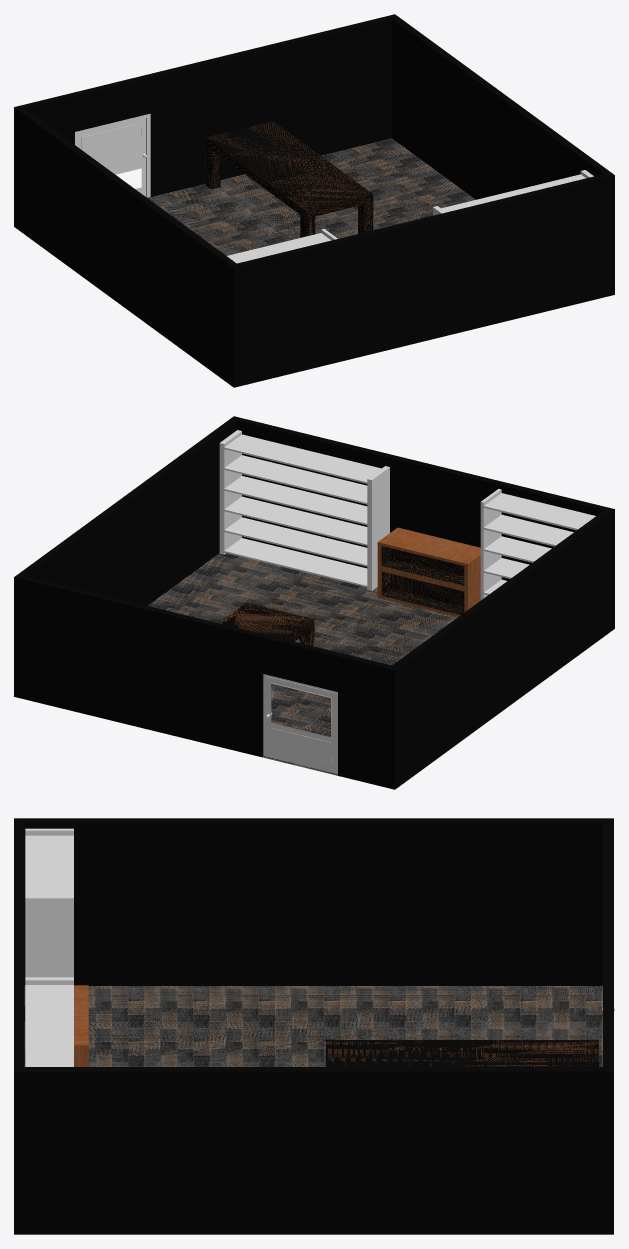
File: acc_office.glb
3 views of the same model, one above another, from view 1: azimuth 30°, elevation 25°; view 2: azimuth 150°, elevation 25°; view 3: azimuth 270°, elevation 25° (orthographic). The views are drawn at different scales.
Visible parts, largest first — view 1: Walls, Ground, Desk, Door, Shelves1.001, Shelves1, DoorFrame; view 2: Walls, Shelves1, Ground, Shelves1.001, Cabinet, Door, Desk, Cabinet.002, Cabinet.001, DoorFrame; view 3: Walls, Ground, Desk, Shelves1.001, Shelves1, Cabinet.
Part boxes in pixels (bbox=[...]): Walls: bbox=[14, 14, 614, 387]; Ground: bbox=[147, 138, 475, 255]; Desk: bbox=[205, 121, 373, 237]; Door: bbox=[78, 118, 145, 196]; Shelves1.001: bbox=[227, 228, 337, 263]; Shelves1: bbox=[433, 170, 593, 215]; DoorFrame: bbox=[75, 113, 150, 197]; Walls: bbox=[14, 416, 614, 789]; Shelves1: bbox=[219, 430, 389, 590]; Ground: bbox=[147, 553, 457, 775]; Shelves1.001: bbox=[480, 489, 595, 600]; Cabinet: bbox=[377, 527, 480, 616]; Door: bbox=[266, 676, 336, 773]; Desk: bbox=[219, 603, 314, 646]; Cabinet.002: bbox=[381, 571, 464, 614]; Cabinet.001: bbox=[381, 546, 464, 585]; DoorFrame: bbox=[263, 674, 337, 774]; Walls: bbox=[14, 818, 613, 1234]; Ground: bbox=[24, 986, 602, 1066]; Desk: bbox=[326, 1040, 598, 1066]; Shelves1.001: bbox=[25, 828, 73, 977]; Shelves1: bbox=[25, 977, 73, 1066]; Cabinet: bbox=[74, 985, 88, 1066].
Size of the model in its own units: 10 by 3 by 10.02.
3 materials, 2 textured.
